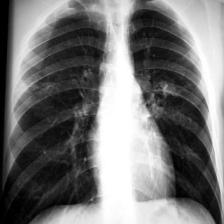tuberculosis: (1, 0, 224, 224)
